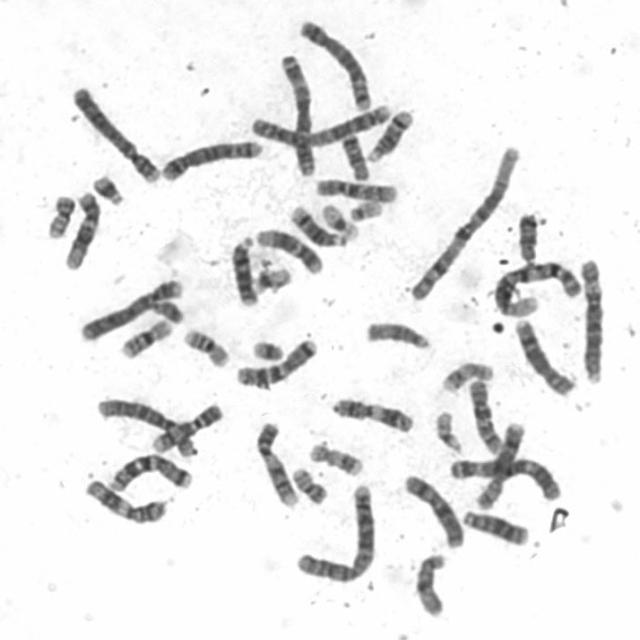A1: (404, 137, 524, 303), (488, 252, 584, 318)
A2: (289, 478, 378, 584), (245, 95, 394, 149)
A3: (442, 450, 564, 502), (274, 46, 318, 177)
B4: (66, 78, 162, 185), (74, 272, 186, 343)
B5: (293, 12, 374, 112), (155, 132, 265, 182)
C10: (464, 373, 506, 456), (309, 172, 400, 204)
C11: (78, 472, 168, 526), (325, 390, 417, 435)
C12: (250, 222, 326, 275), (58, 184, 102, 270)
C6: (90, 392, 200, 458), (574, 251, 608, 386)
C7: (229, 330, 320, 390), (103, 447, 195, 493)
C8: (508, 312, 578, 398), (470, 416, 529, 512)
C9: (249, 415, 300, 508), (145, 397, 225, 455)
D13: (456, 503, 531, 547), (225, 230, 260, 308)
D14: (361, 102, 416, 163), (285, 199, 350, 248)
D15: (409, 548, 450, 619), (359, 314, 434, 351)
E16: (114, 312, 174, 361), (178, 322, 232, 368)
E17: (303, 436, 366, 478), (436, 354, 496, 394)
E18: (334, 127, 373, 182), (512, 205, 541, 264)
F19: (316, 197, 362, 241), (247, 261, 294, 295)
F20: (286, 460, 330, 506), (40, 188, 77, 240)
G21: (86, 167, 127, 207), (246, 333, 286, 362)
G22: (428, 403, 466, 455), (344, 194, 386, 222)
X: (398, 468, 467, 550)
Y: (146, 294, 186, 324)
